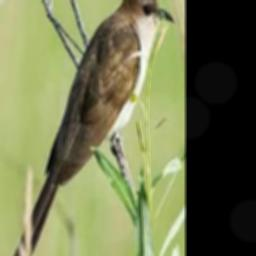Cuckoo: (5, 0, 174, 256)
